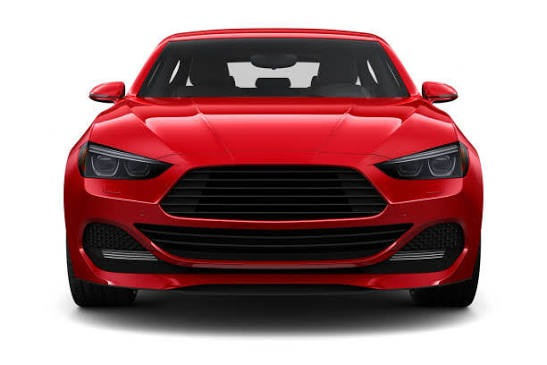car: (60, 28, 481, 299)
